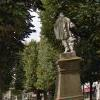Statue: (50, 7, 84, 51)
